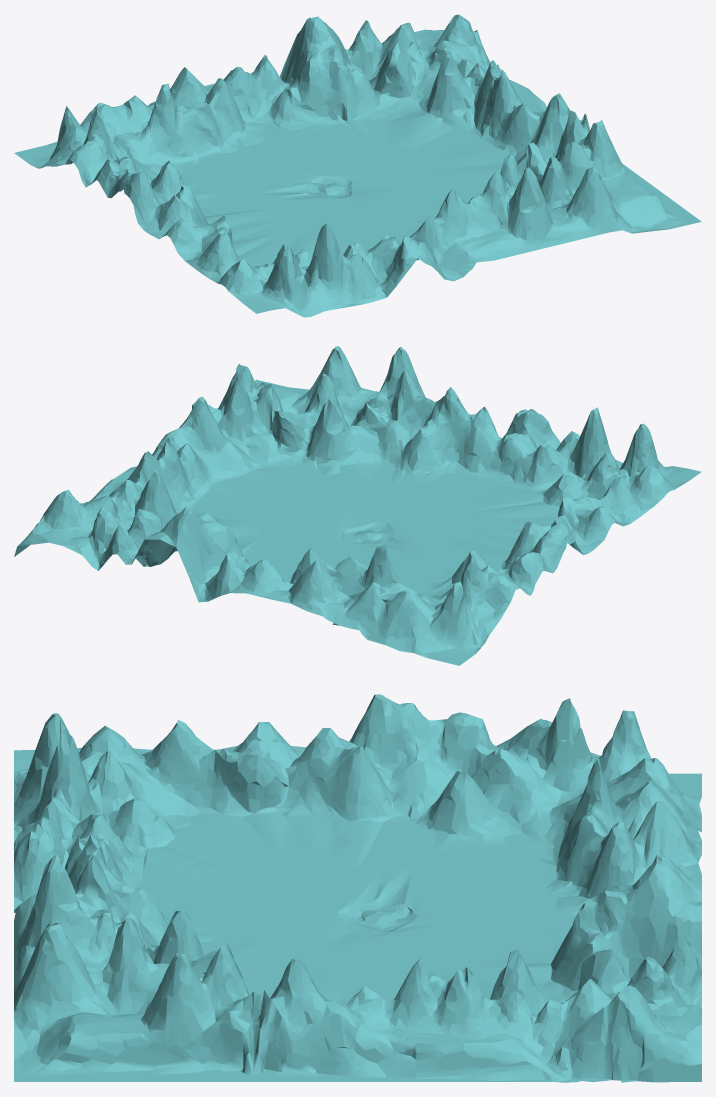
File: montains.fbx
3 renders of one model, top to bottom at view 1: azimuth 30°, elevation 25°; view 2: azimuth 150°, elevation 25°; view 3: azimuth 270°, elevation 25°, orthographic. The views are drawn at different scales.
Visible parts, largest first — view 1: montain; view 2: montain; view 3: montain.
Boxes of the visible parts, x1,y1,x2,y2 form: montain: (14,14,701,317); montain: (14,346,701,665); montain: (14,694,701,1082).
Bounding box in the file's own units: 87.21 × 16.03 × 82.06.
